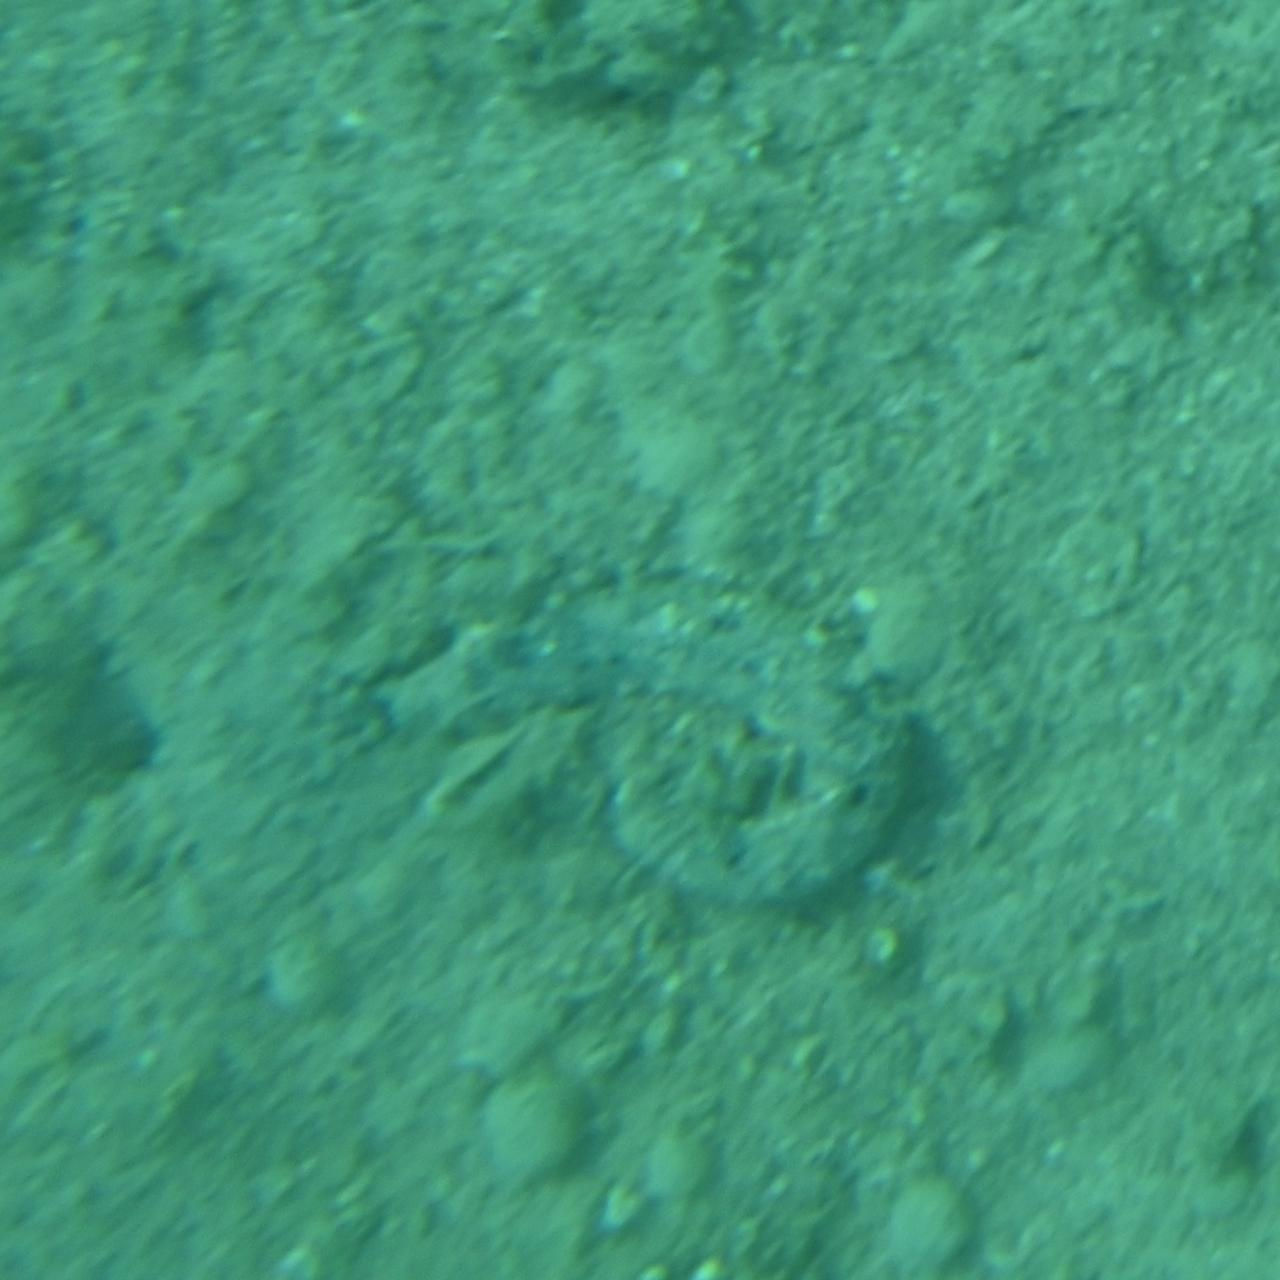Holothuria tubulosa: (364, 566, 916, 918)
